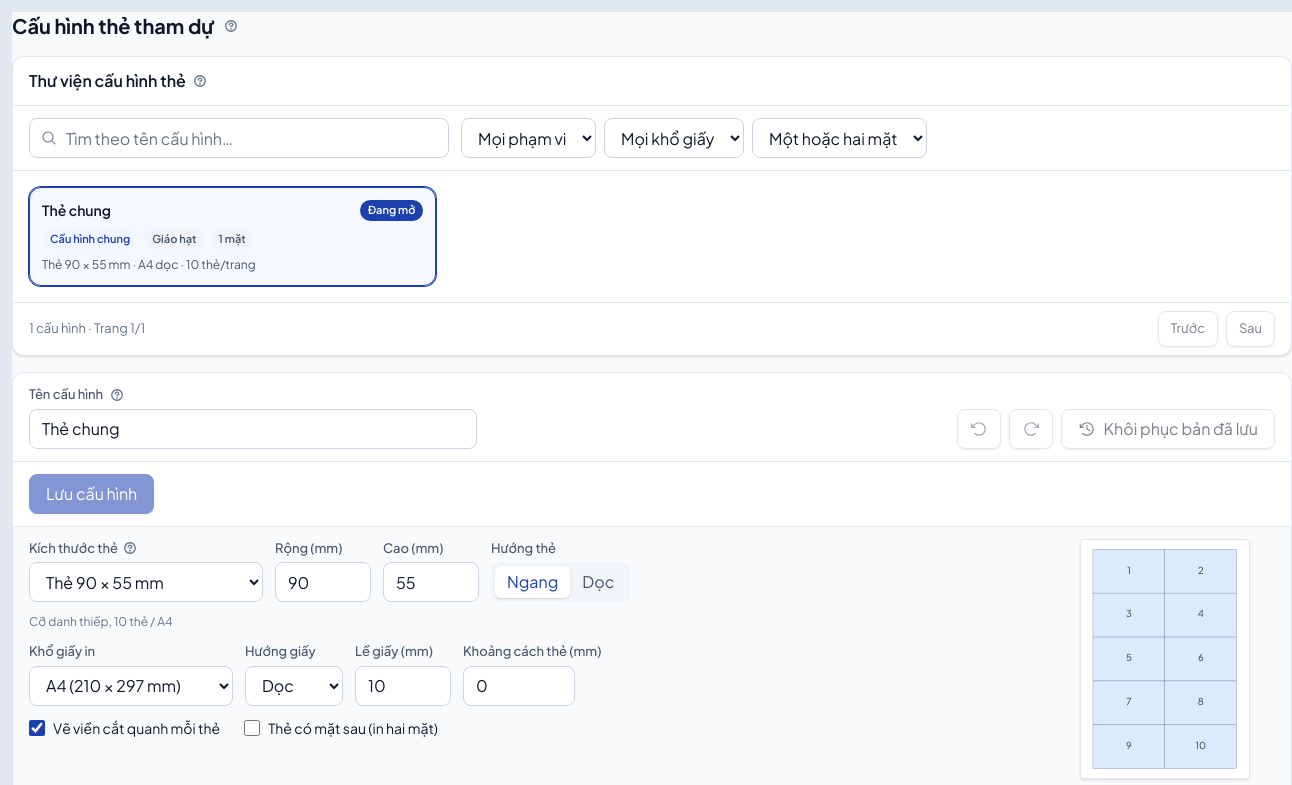
Test: BadgeConfigView › blocks saving a card that does not fit the paper and explains why
The image size is (1292, 785).
Expected: the field labelled "Tên cấu hình" holds "Thẻ chung", [29,408,477,448]
Replace the text in the number field labelled "Rộng (mm)" with "250" at coordinates (323, 582), box [275,562,371,602]
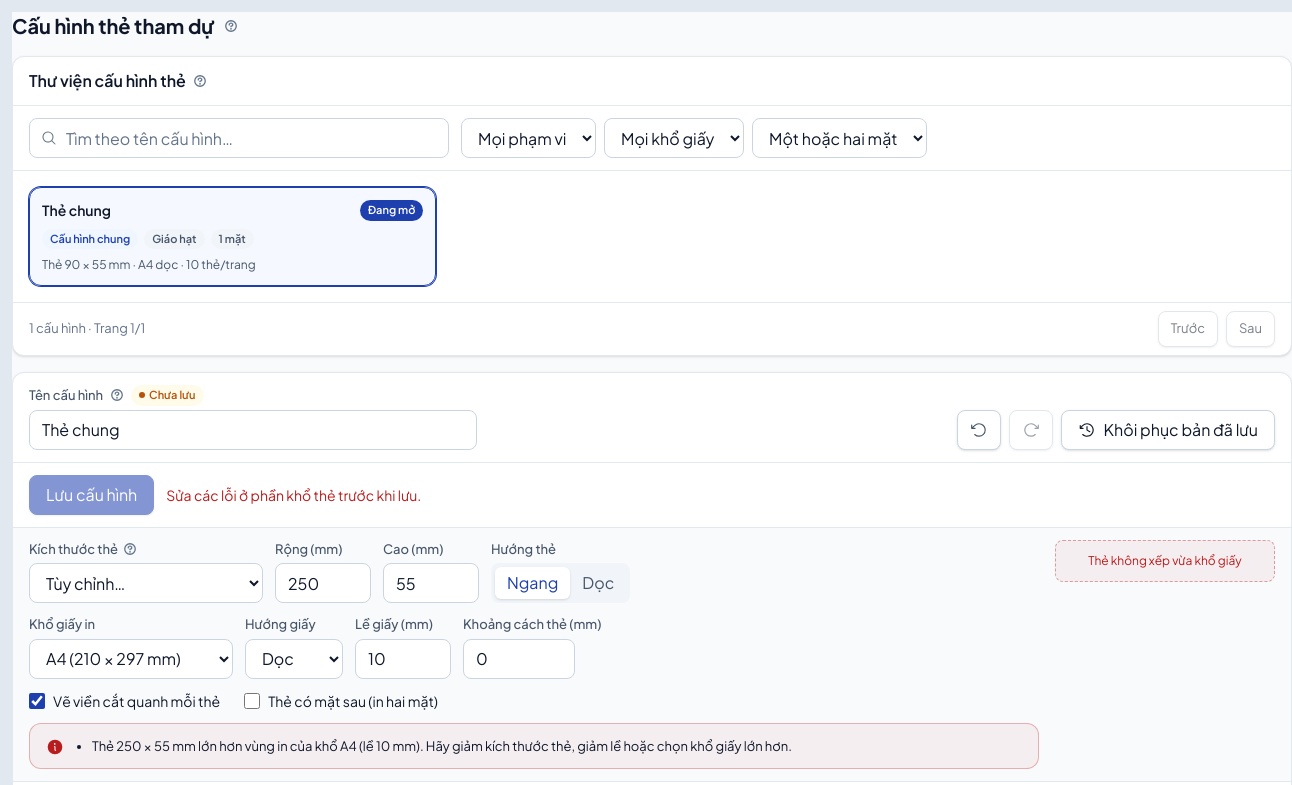
Expected: the button "Lưu cấu hình" is disabled, [29,474,154,514]
Now the list item "lớn hơn vùng in của khổ A4" is shown, box [92,738,792,754]
Now the text "Sửa các lỗi ở phần khổ thẻ trước khi lưu." is shown, box [166,484,421,504]
